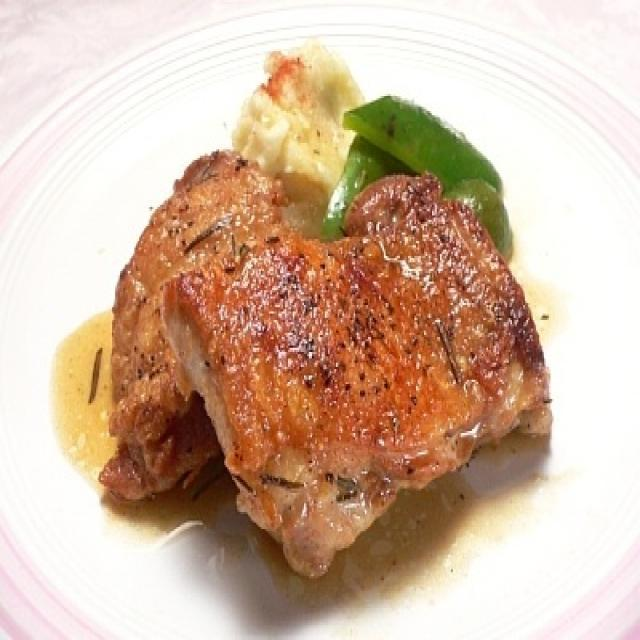Chicken roast: (125, 145, 560, 542)
